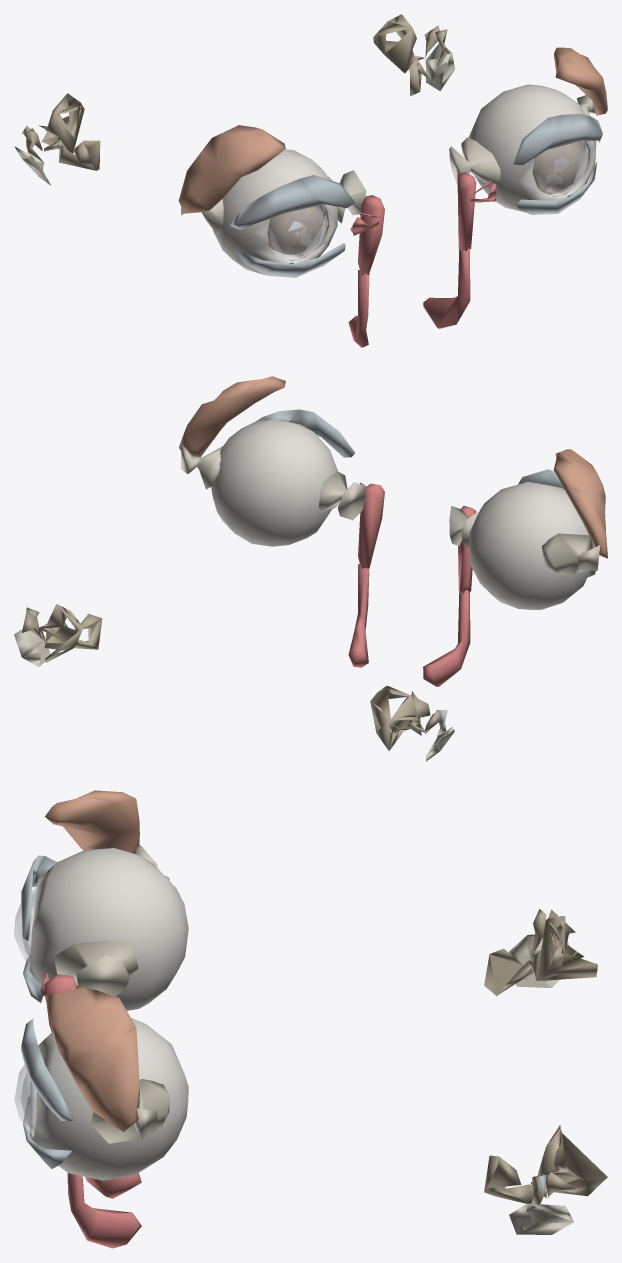
File: adult_male.sensory.LOD4.glb
The picture shows the model from 3 angles, top to bottom: view 1: azimuth 30°, elevation 25°; view 2: azimuth 150°, elevation 25°; view 3: azimuth 270°, elevation 25°; orthographic projection. The views are drawn at different scales.
Visible parts, largest first — view 1: ADULT.MALE.SENSORY.SCLERA.L, ADULT.MALE.SENSORY.SCLERA.R, ADULT.MALE.SENSORY.LACRIMAL_GLAND.R, ADULT.MALE.SENSORY.SUPERIOR_TARSUS.R, ADULT.MALE.SENSORY.CORNEA.R, ADULT.MALE.SENSORY.SUPERIOR_TARSUS.L, ADULT.MALE.SENSORY.CORNEA.L, ADULT.MALE.SENSORY.IRIS.R, ADULT.MALE.SENSORY.LACRIMAL_GLAND.L, ADULT.MALE.SENSORY.SUSPENSORY_LIGAMENT_OF_EYEBALL.L, ADULT.MALE.SENSORY.IRIS.L, ADULT.MALE.SENSORY.NASOLACRIMAL_DUCT.L (+12 smaller); view 2: ADULT.MALE.SENSORY.SCLERA.L, ADULT.MALE.SENSORY.SCLERA.R, ADULT.MALE.SENSORY.LACRIMAL_GLAND.L, ADULT.MALE.SENSORY.LACRIMAL_GLAND.R, ADULT.MALE.SENSORY.SUSPENSORY_LIGAMENT_OF_EYEBALL.R, ADULT.MALE.SENSORY.SUSPENSORY_LIGAMENT_OF_EYEBALL.L, ADULT.MALE.SENSORY.VESTIBULE.R, ADULT.MALE.SENSORY.NASOLACRIMAL_DUCT.R, ADULT.MALE.SENSORY.LACRIMAL_SAC.L, ADULT.MALE.SENSORY.SUPERIOR_TARSUS.L, ADULT.MALE.SENSORY.VESTIBULE.L, ADULT.MALE.SENSORY.NASOLACRIMAL_DUCT.L (+3 smaller); view 3: ADULT.MALE.SENSORY.SCLERA.R, ADULT.MALE.SENSORY.SCLERA.L, ADULT.MALE.SENSORY.LACRIMAL_GLAND.L, ADULT.MALE.SENSORY.LACRIMAL_GLAND.R, ADULT.MALE.SENSORY.SUSPENSORY_LIGAMENT_OF_EYEBALL.R, ADULT.MALE.SENSORY.NASOLACRIMAL_DUCT.L, ADULT.MALE.SENSORY.VESTIBULE.R, ADULT.MALE.SENSORY.VESTIBULE.L, ADULT.MALE.SENSORY.SUSPENSORY_LIGAMENT_OF_EYEBALL.L, ADULT.MALE.SENSORY.SUPERIOR_TARSUS.L, ADULT.MALE.SENSORY.TYMPANIC_MEMBRANE.L, ADULT.MALE.SENSORY.COCHLEA.L (+7 smaller).
Part boxes in pixels (x1,y1,x2,y2): ADULT.MALE.SENSORY.SCLERA.L: (469, 84, 596, 212); ADULT.MALE.SENSORY.SCLERA.R: (212, 149, 338, 274); ADULT.MALE.SENSORY.LACRIMAL_GLAND.R: (178, 125, 285, 213); ADULT.MALE.SENSORY.SUPERIOR_TARSUS.R: (230, 175, 355, 230); ADULT.MALE.SENSORY.CORNEA.R: (267, 205, 327, 259); ADULT.MALE.SENSORY.SUPERIOR_TARSUS.L: (513, 114, 602, 165); ADULT.MALE.SENSORY.CORNEA.L: (533, 141, 588, 195); ADULT.MALE.SENSORY.IRIS.R: (267, 206, 321, 255); ADULT.MALE.SENSORY.LACRIMAL_GLAND.L: (553, 47, 607, 115); ADULT.MALE.SENSORY.SUSPENSORY_LIGAMENT_OF_EYEBALL.L: (449, 95, 595, 184); ADULT.MALE.SENSORY.IRIS.L: (532, 142, 582, 192); ADULT.MALE.SENSORY.NASOLACRIMAL_DUCT.L: (423, 248, 470, 328); ADULT.MALE.SENSORY.SCLERA.L: (211, 419, 337, 546); ADULT.MALE.SENSORY.SCLERA.R: (469, 481, 594, 609); ADULT.MALE.SENSORY.LACRIMAL_GLAND.L: (178, 376, 285, 457); ADULT.MALE.SENSORY.LACRIMAL_GLAND.R: (553, 449, 607, 558); ADULT.MALE.SENSORY.SUSPENSORY_LIGAMENT_OF_EYEBALL.R: (449, 506, 600, 575); ADULT.MALE.SENSORY.SUSPENSORY_LIGAMENT_OF_EYEBALL.L: (181, 443, 366, 520); ADULT.MALE.SENSORY.VESTIBULE.R: (370, 685, 416, 750); ADULT.MALE.SENSORY.NASOLACRIMAL_DUCT.R: (423, 590, 470, 686); ADULT.MALE.SENSORY.LACRIMAL_SAC.L: (358, 483, 384, 569); ADULT.MALE.SENSORY.SUPERIOR_TARSUS.L: (255, 409, 354, 457); ADULT.MALE.SENSORY.VESTIBULE.L: (38, 604, 83, 662); ADULT.MALE.SENSORY.NASOLACRIMAL_DUCT.L: (348, 564, 369, 667); ADULT.MALE.SENSORY.SCLERA.R: (29, 848, 188, 1010); ADULT.MALE.SENSORY.SCLERA.L: (30, 1018, 188, 1180); ADULT.MALE.SENSORY.LACRIMAL_GLAND.L: (45, 987, 139, 1131); ADULT.MALE.SENSORY.LACRIMAL_GLAND.R: (45, 790, 139, 853); ADULT.MALE.SENSORY.SUSPENSORY_LIGAMENT_OF_EYEBALL.R: (54, 844, 169, 996); ADULT.MALE.SENSORY.NASOLACRIMAL_DUCT.L: (67, 1173, 141, 1248); ADULT.MALE.SENSORY.VESTIBULE.R: (531, 916, 597, 980); ADULT.MALE.SENSORY.VESTIBULE.L: (531, 1125, 607, 1196); ADULT.MALE.SENSORY.SUSPENSORY_LIGAMENT_OF_EYEBALL.L: (91, 1079, 169, 1143); ADULT.MALE.SENSORY.SUPERIOR_TARSUS.L: (21, 1018, 73, 1120); ADULT.MALE.SENSORY.TYMPANIC_MEMBRANE.L: (509, 1203, 573, 1234); ADULT.MALE.SENSORY.COCHLEA.L: (484, 1155, 533, 1203).
Bounding box in the file's own units: 0.1011 × 0.0574 × 0.0932.
